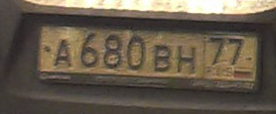character: (125, 31, 148, 70), (173, 41, 199, 75), (102, 30, 123, 69), (79, 31, 101, 67), (52, 37, 75, 70), (227, 34, 247, 66), (153, 42, 174, 72), (208, 33, 227, 66)
